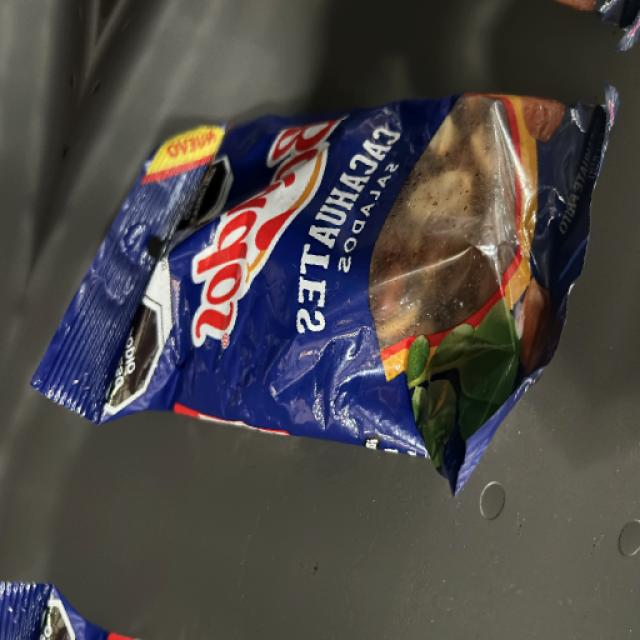bokadosCacahuates: (105, 123, 554, 428)
